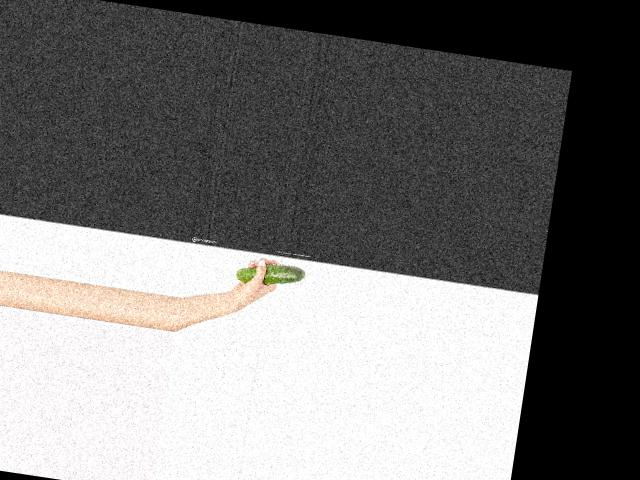cucumber: (236, 257, 307, 290)
